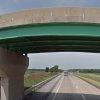Bridge: (2, 4, 100, 58)
